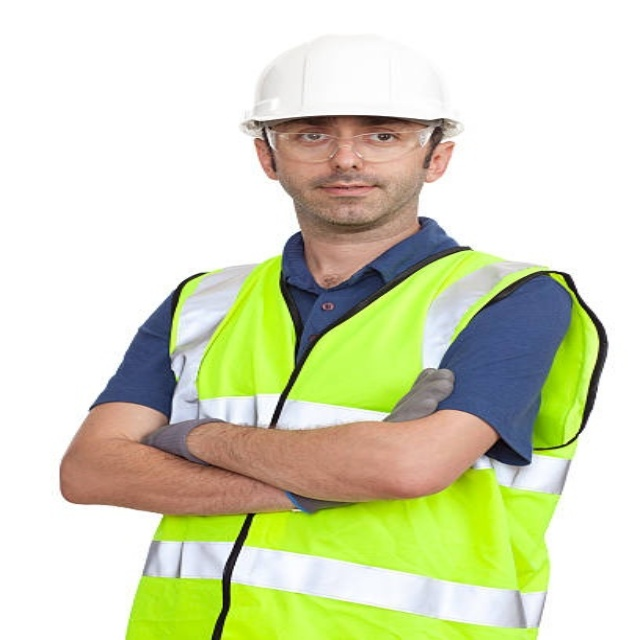Gafas: (263, 125, 439, 164)
Guantes: (375, 365, 463, 426), (140, 413, 231, 467)
Sin_mascara: (306, 176, 394, 213)
